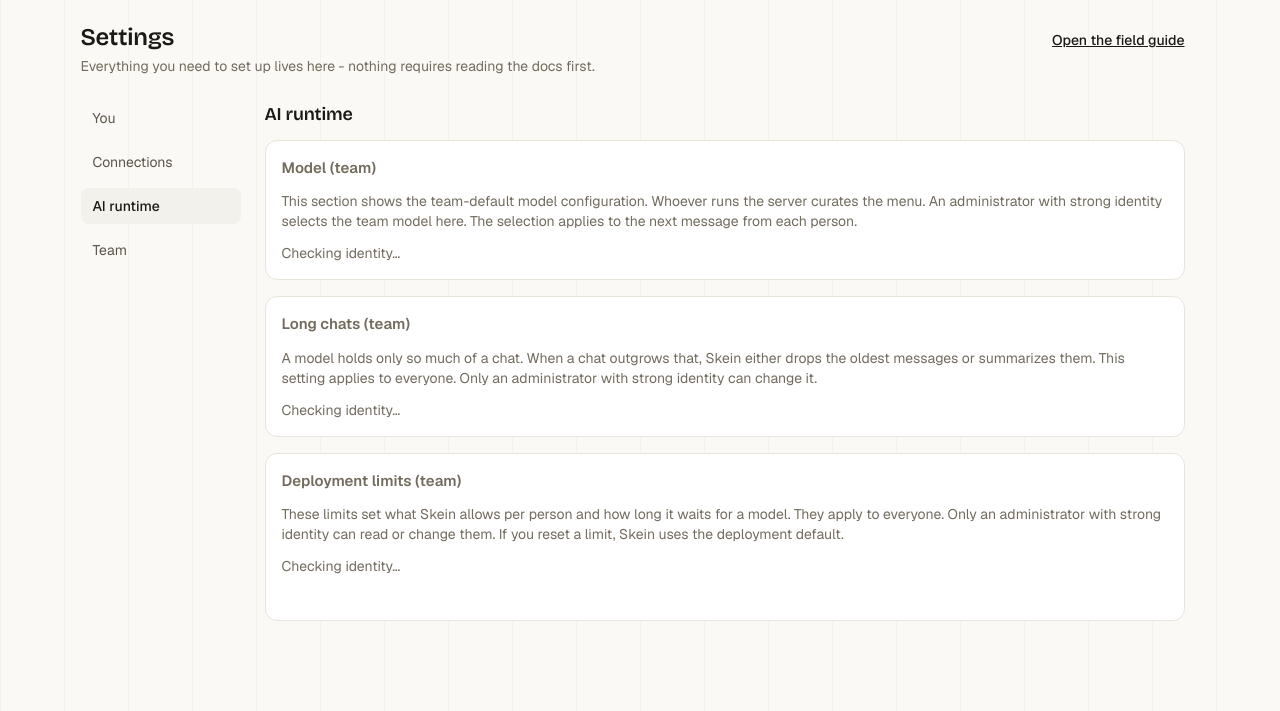
it: the model section › confirms a save in the settled wording
Click the link "AI runtime".
click(160, 206)  # box left=80, top=188, right=240, bottom=224
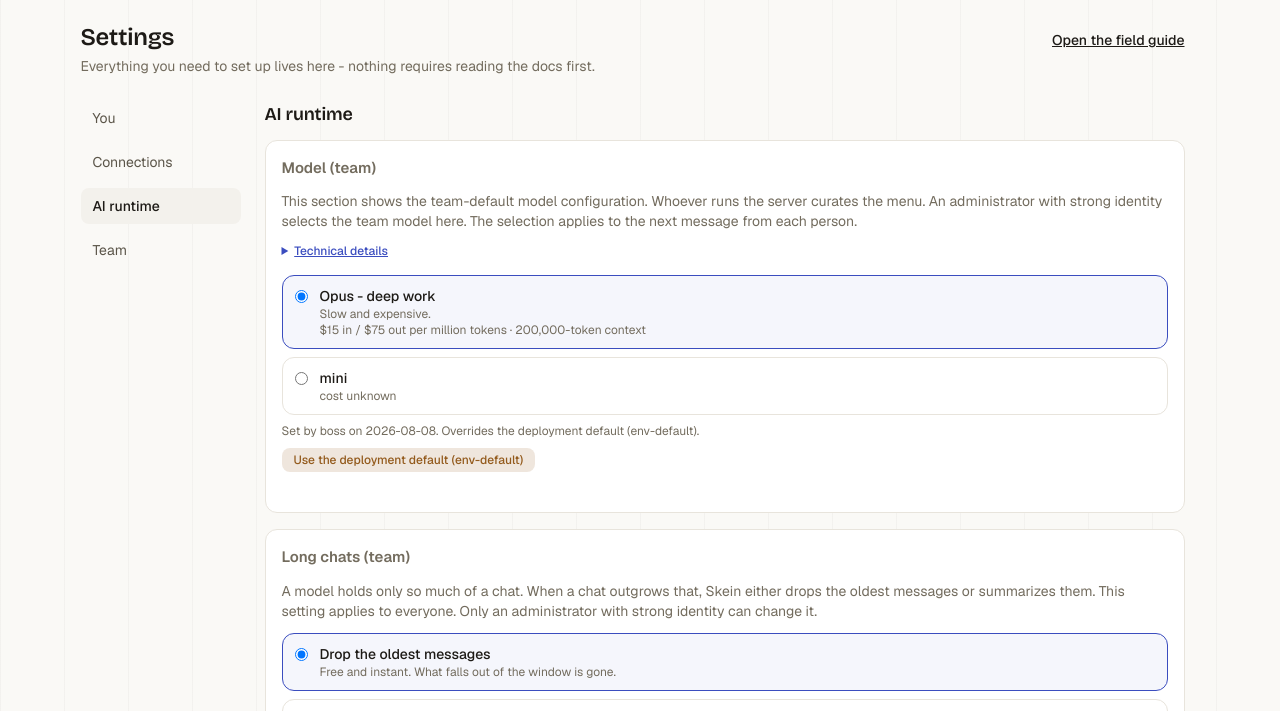
Result: the text "Opus - deep work" is shown at left=320, top=287, right=436, bottom=305
Click the radio button labelled "mini cost unknown".
click(301, 379)  # box left=294, top=372, right=308, bottom=385
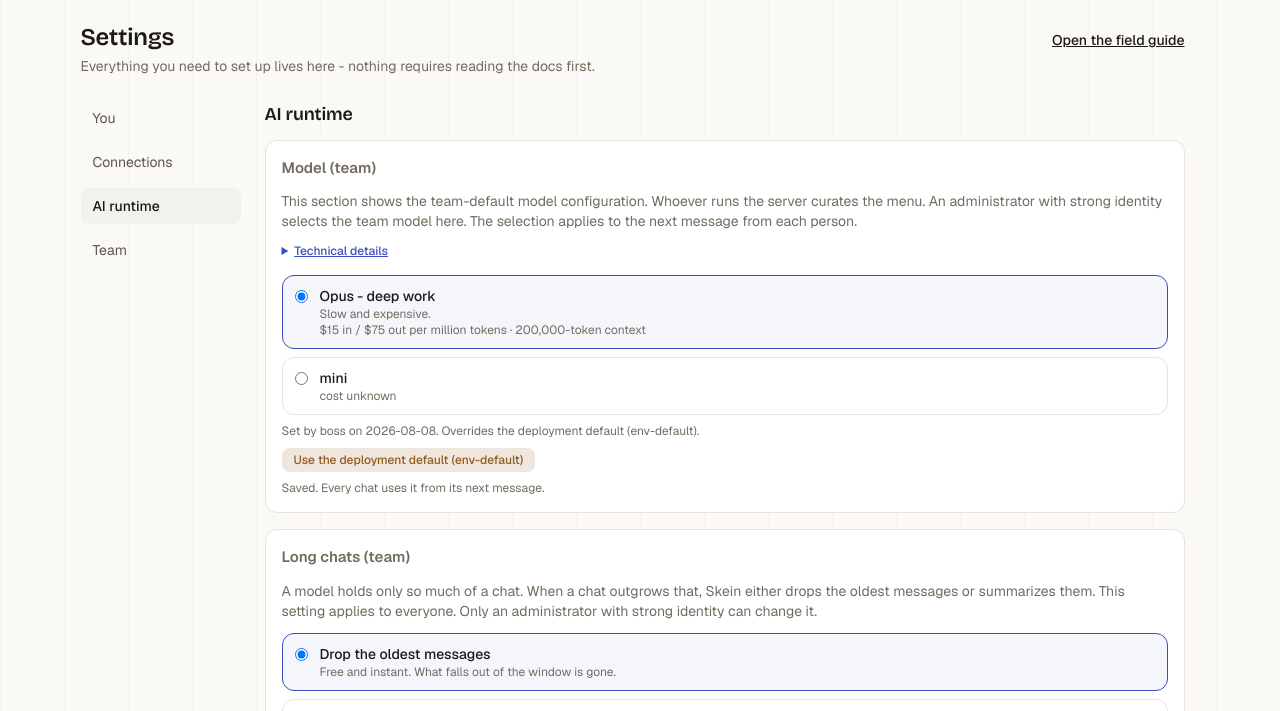
Result: the text "Saved. Every chat uses it from its next message." is shown at left=282, top=480, right=544, bottom=496
